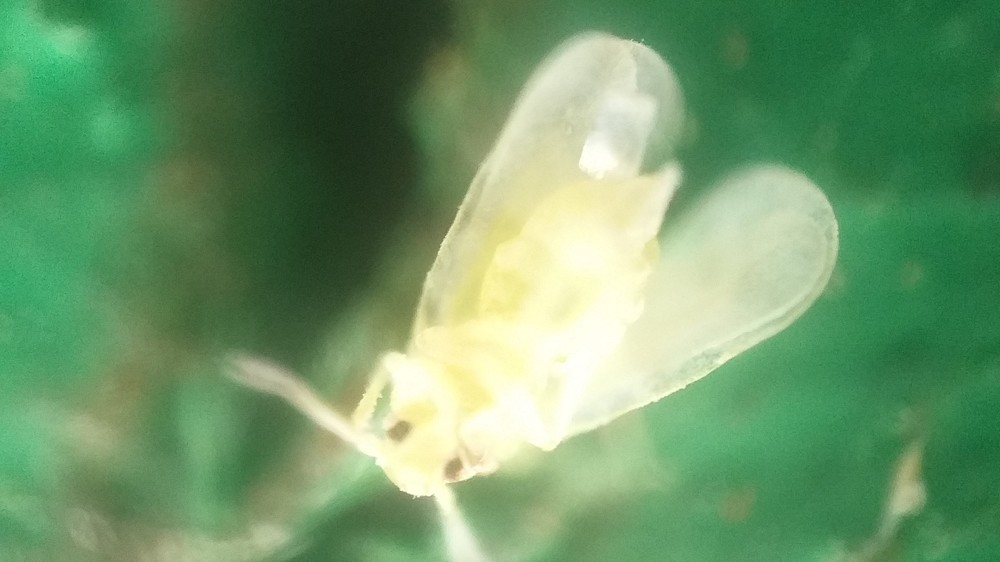Mosca Blanca: (213, 28, 848, 562)
